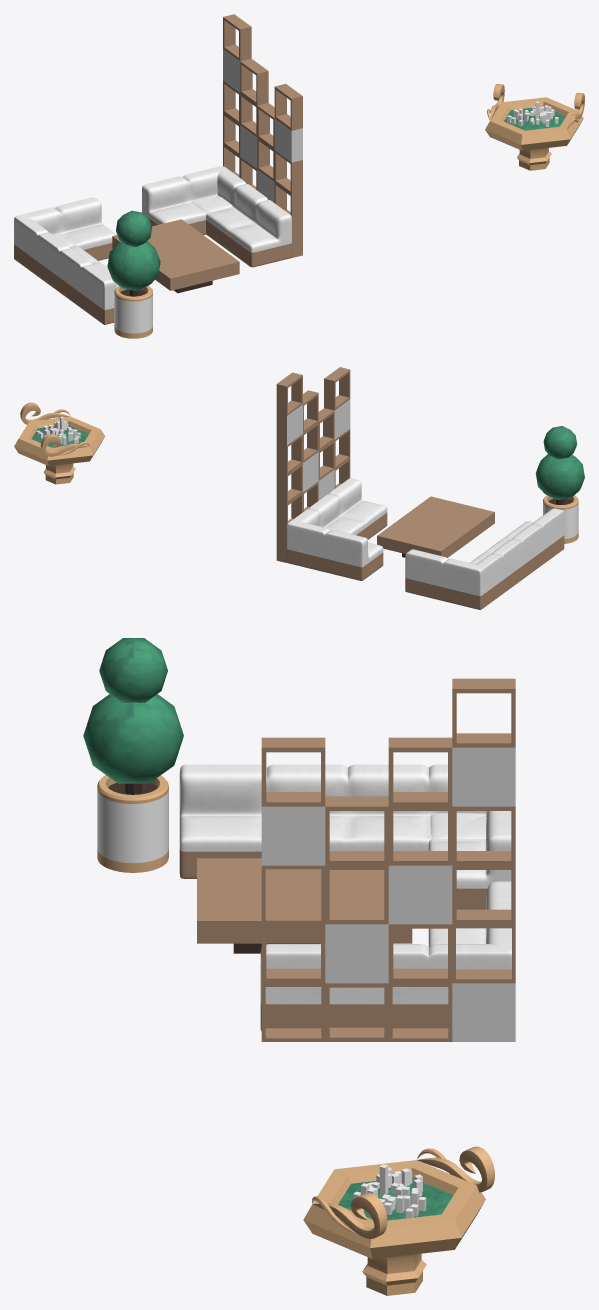
Rendered from AppGameEastFurniture.fbx.
The picture shows the model from 3 angles, top to bottom: view 1: azimuth 30°, elevation 25°; view 2: azimuth 150°, elevation 25°; view 3: azimuth 270°, elevation 25°; orthographic projection. The views are drawn at different scales.
Visible parts, largest first — view 1: Cube.014, Cube.012, Cube.013, Cube.015, Torus.002, Icosphere.002, Circle.007, Cube.016, NurbsPath.005; view 2: Cube.014, Cube.013, Cube.012, Cube.015, Torus.002, Icosphere.002, NurbsPath.005, Circle.007, Cube.016; view 3: Cube.014, Cube.013, Cube.012, Torus.002, Cube.015, Icosphere.002, Circle.007, NurbsPath.005, Cube.016.
Part boxes in pixels (box(x1,y1,x2,y2)): Cube.014: box(223, 14, 302, 257); Cube.012: box(142, 166, 291, 267); Cube.013: box(14, 197, 118, 324); Cube.015: box(112, 219, 239, 293); Torus.002: box(485, 97, 583, 170); Icosphere.002: box(107, 210, 160, 296); Circle.007: box(114, 286, 152, 338); Cube.016: box(507, 101, 558, 127); NurbsPath.005: box(487, 84, 584, 129); Cube.014: box(276, 367, 350, 562); Cube.013: box(405, 508, 564, 609); Cube.012: box(287, 478, 387, 580); Cube.015: box(377, 496, 494, 557); Torus.002: box(14, 416, 105, 484); Icosphere.002: box(535, 426, 584, 504); NurbsPath.005: box(20, 402, 89, 456); Circle.007: box(543, 495, 578, 543); Cube.016: box(36, 416, 80, 445); Cube.014: box(261, 678, 515, 1041); Cube.013: box(179, 764, 511, 909); Cube.012: box(260, 881, 511, 1030); Torus.002: box(303, 1160, 485, 1295); Cube.015: box(197, 858, 412, 953); Icosphere.002: box(83, 638, 183, 794); Circle.007: box(97, 775, 168, 872); NurbsPath.005: box(312, 1146, 494, 1238); Cube.016: box(353, 1164, 426, 1218).
Bounding box in the file's own units: 2949 × 999 × 1106.
Materials: 8 (2 with a texture image).
